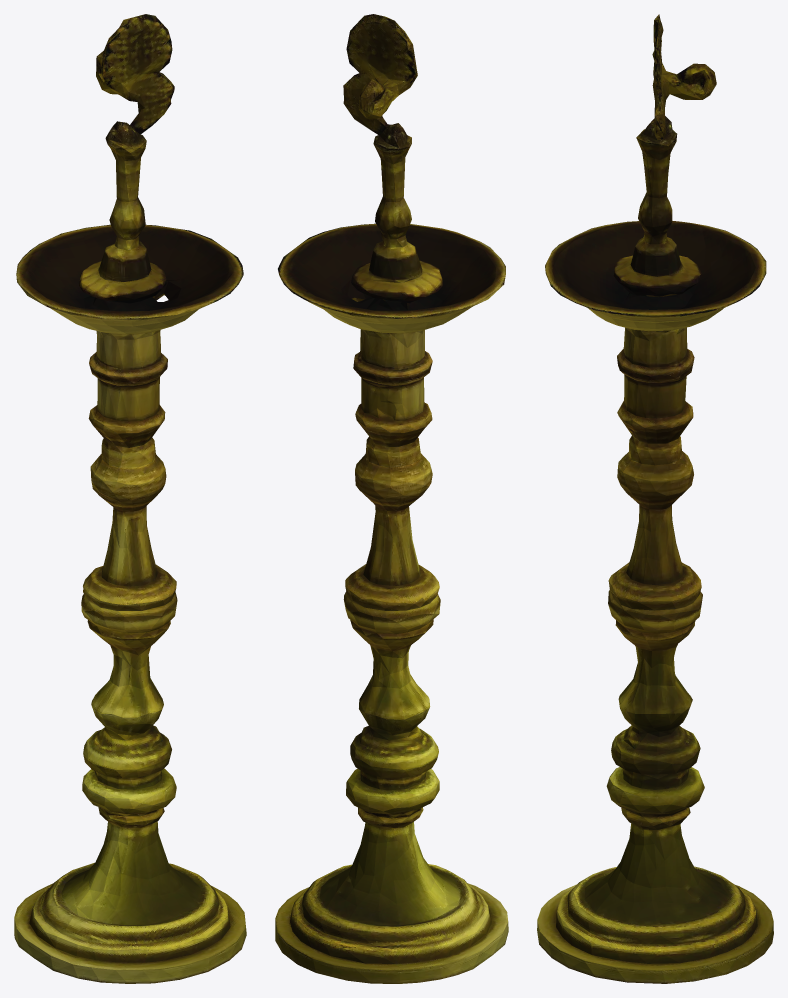
File: standing_lamp.glb
3 views of the same model, side by side, from view 1: azimuth 30°, elevation 25°; view 2: azimuth 150°, elevation 25°; view 3: azimuth 270°, elevation 25° (orthographic).
Parts seen in each view (by area): view 1: geometry_0; view 2: geometry_0; view 3: geometry_0.
Part boxes in pixels (box(x1,y1,x2,y2)): geometry_0: box(14, 14, 246, 983); geometry_0: box(275, 14, 508, 983); geometry_0: box(537, 14, 773, 983).
Bounding box in the file's own units: 0.2286 × 0.9995 × 0.2332.
1 material, 1 textured.
